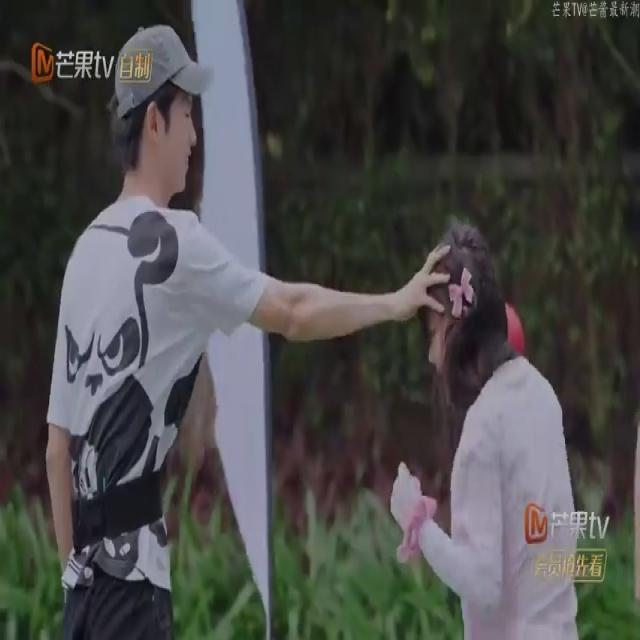fight: (0, 6, 600, 638)
